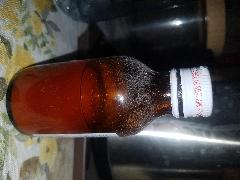glass: (74, 20, 186, 176)
